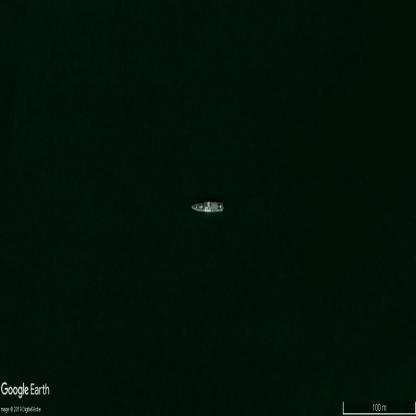ship: (191, 202, 224, 212)
